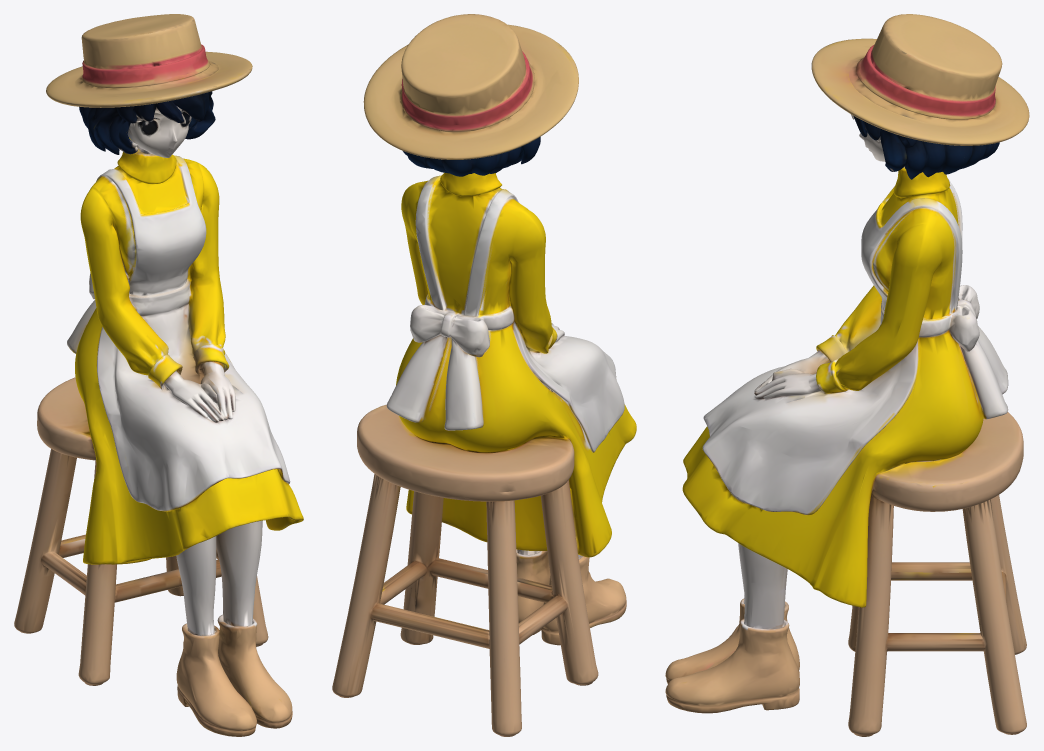
Rendered from user_static_seated_2k.glb.
3 views of the same model, side by side, from view 1: azimuth 30°, elevation 25°; view 2: azimuth 150°, elevation 25°; view 3: azimuth 270°, elevation 25° (orthographic). The views are drawn at different scales.
Visible parts, largest first — view 1: node_0; view 2: node_0; view 3: node_0.
Boxes of the visible parts, bbox=[...] form: node_0: bbox=[14, 14, 303, 736]; node_0: bbox=[332, 14, 636, 736]; node_0: bbox=[665, 14, 1029, 736].
Size of the model in its own units: 0.3394 by 1.06 by 0.5249.
Materials: 1 (1 with a texture image).
